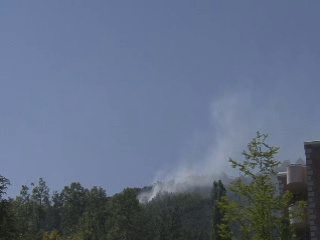smoke: (187, 97, 242, 181), (136, 164, 209, 200)
